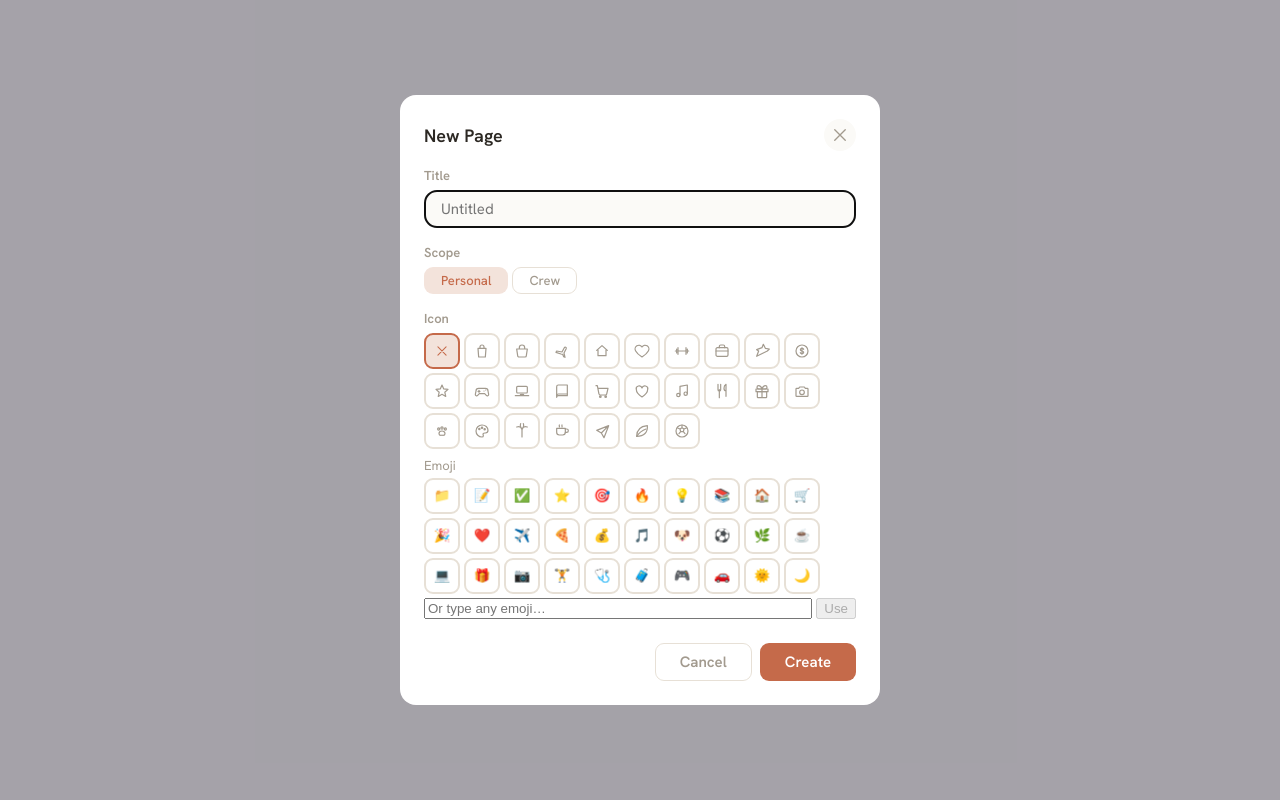
Test: NewPageModal › surfaces a creation error and keeps the modal open
Click the button "Create". click: coordinates (808, 662)
box: 760,643 -> 856,681
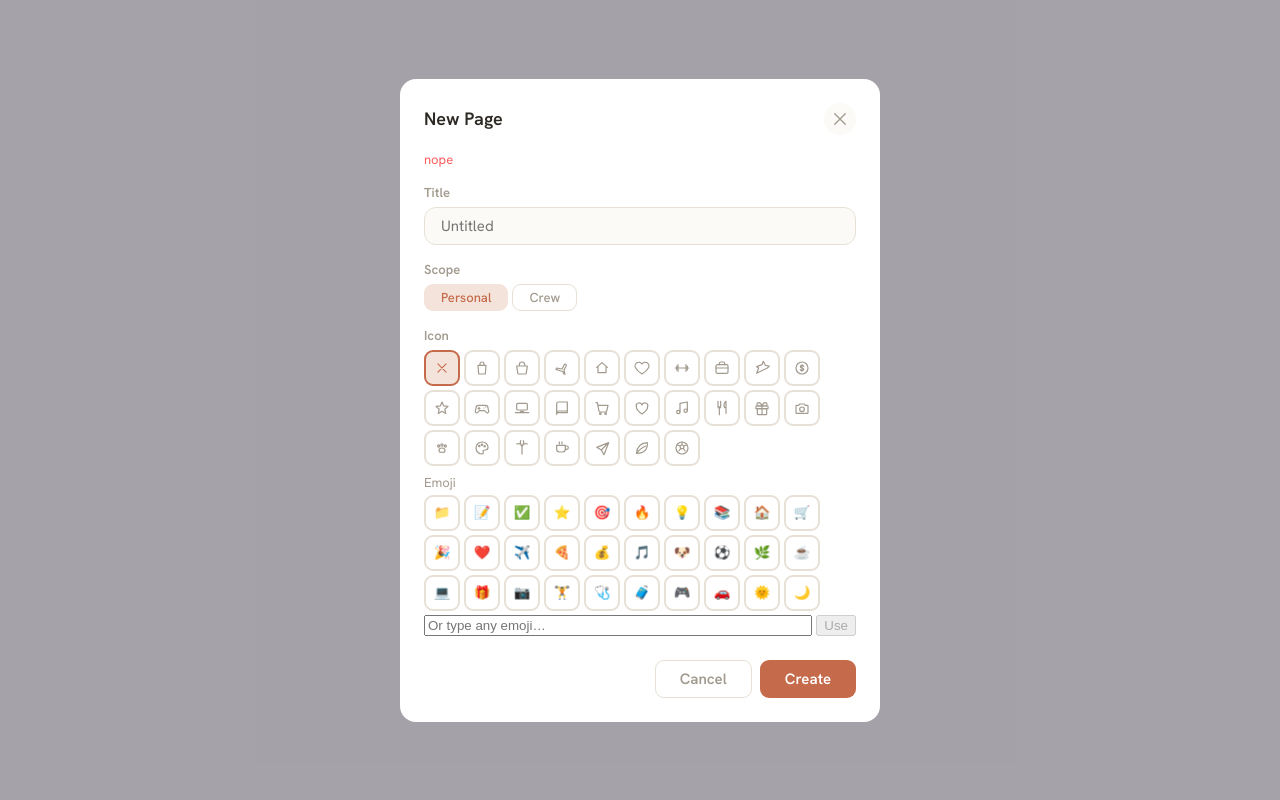
Expected: the button "Create" is enabled, 760,660 -> 856,698
Expected: the text "nope" is shown, 424,150 -> 453,168
